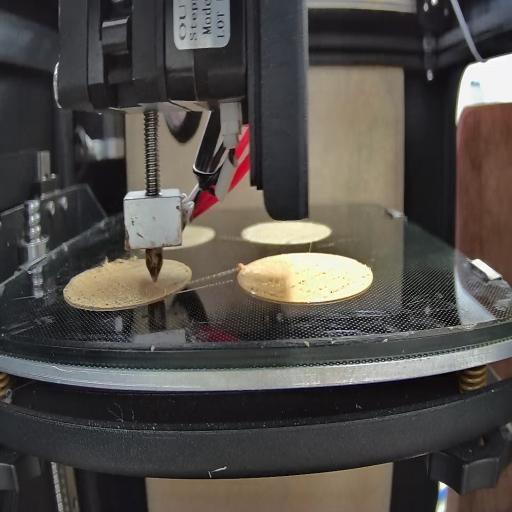under_extrusion: (289, 269, 362, 300), (64, 282, 111, 308), (247, 285, 280, 305), (168, 273, 183, 289)
